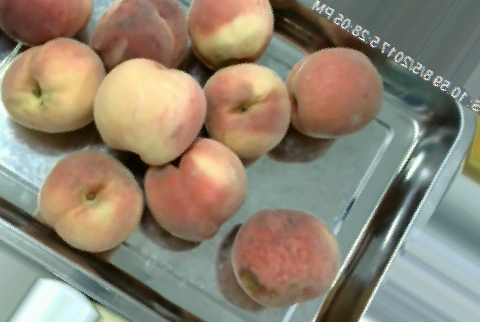Peach: (228, 206, 339, 308), (93, 57, 200, 162), (38, 149, 146, 251), (146, 137, 249, 241), (2, 37, 107, 134), (284, 46, 385, 138), (201, 62, 294, 161), (88, 0, 191, 71), (184, 0, 274, 65), (4, 0, 88, 45)
